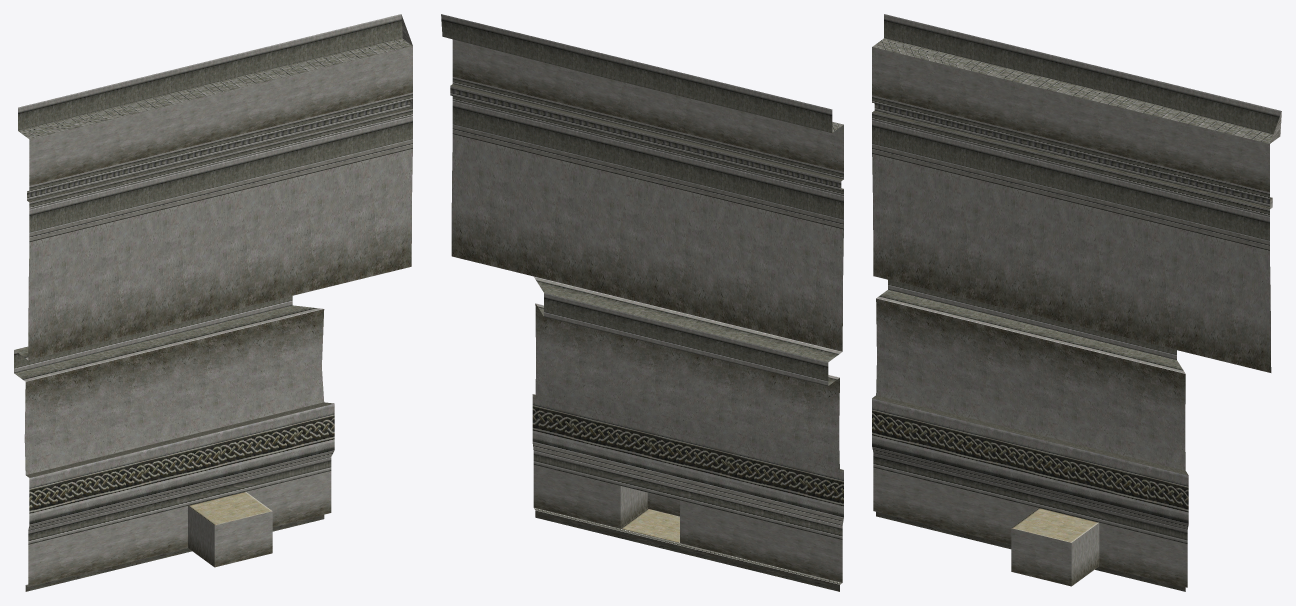
Rendered from DWARF_PALACE_WATER_ROOM_WALL01A02.fbx.
3 renders of one model, left to right at view 1: azimuth 30°, elevation 25°; view 2: azimuth 150°, elevation 25°; view 3: azimuth 330°, elevation 25°, orthographic. The views are drawn at different scales.
Parts seen in each view (by area): view 1: DWARF_PALACE_WATER_ROOM_WALL01A02; view 2: DWARF_PALACE_WATER_ROOM_WALL01A02; view 3: DWARF_PALACE_WATER_ROOM_WALL01A02.
Boxes of the visible parts, x1,y1,x2,y2 form: DWARF_PALACE_WATER_ROOM_WALL01A02: (14, 14, 412, 591); DWARF_PALACE_WATER_ROOM_WALL01A02: (441, 14, 843, 591); DWARF_PALACE_WATER_ROOM_WALL01A02: (872, 14, 1281, 591).
Bounding box in the file's own units: 171850 × 205000 × 31748.
Materials: 10 (10 with a texture image).
